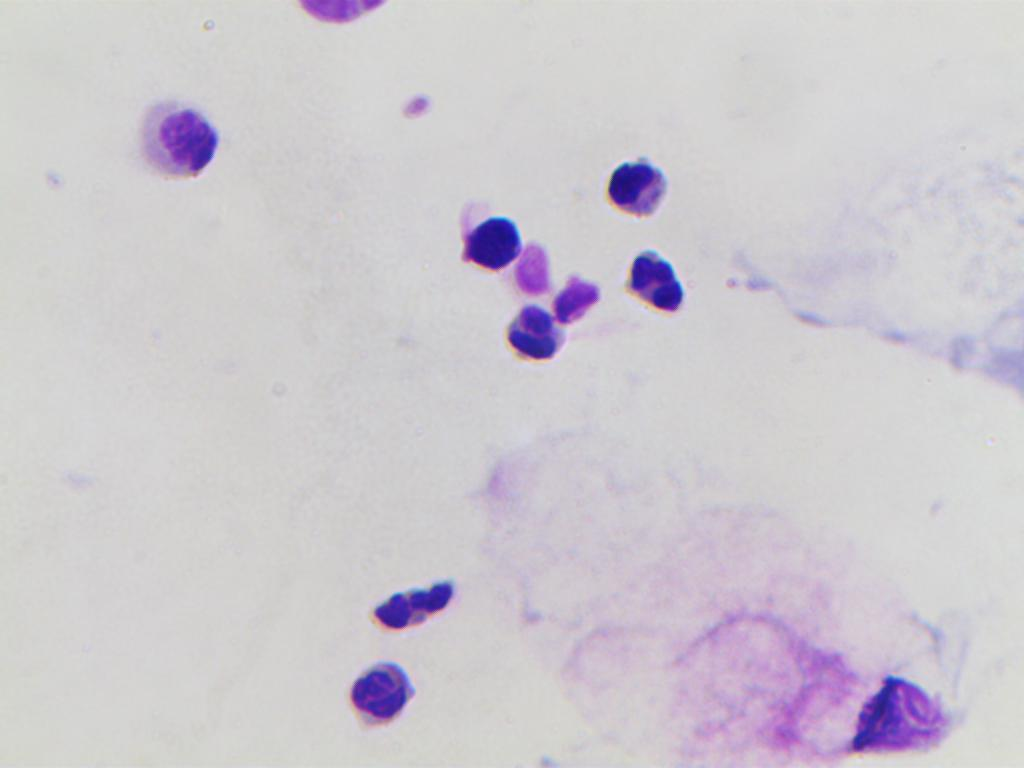goblet_cell: (719, 628, 968, 768)
neutrophil: (443, 200, 548, 284), (151, 80, 228, 186), (591, 138, 674, 222), (367, 574, 458, 644), (339, 652, 424, 726), (495, 290, 564, 370), (625, 240, 690, 322)
